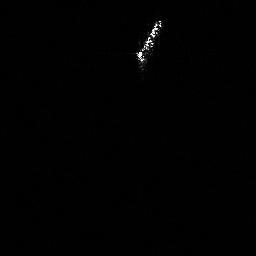ship: (133, 17, 164, 70)
